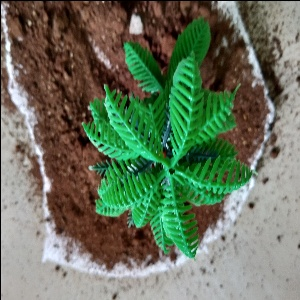plant: (81, 27, 240, 259)
